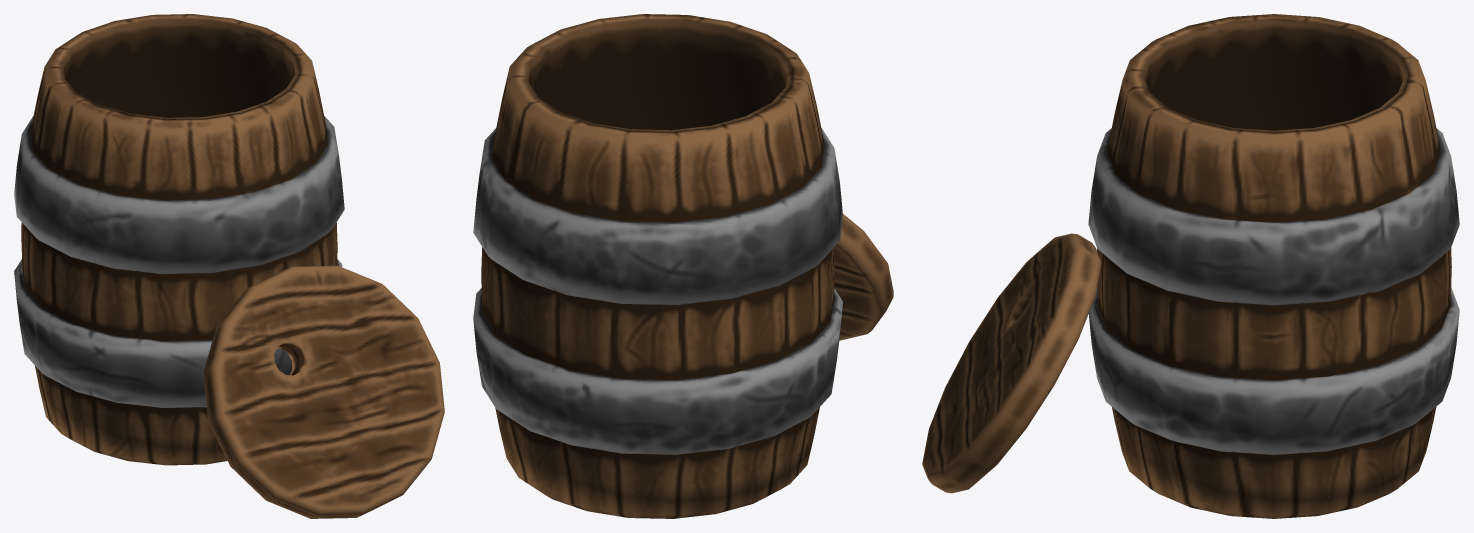
Rendered from Barrel_no_lid.fbx.
The picture shows the model from 3 angles, left to right: view 1: azimuth 30°, elevation 25°; view 2: azimuth 150°, elevation 25°; view 3: azimuth 270°, elevation 25°; orthographic projection. The views are drawn at different scales.
Visible parts, largest first — view 1: Barrel_no_lid; view 2: Barrel_no_lid; view 3: Barrel_no_lid.
Part boxes in pixels (x1,y1,x2,y2): Barrel_no_lid: [14, 14, 444, 518]; Barrel_no_lid: [473, 14, 893, 518]; Barrel_no_lid: [922, 14, 1459, 518].
Bounding box in the file's own units: 1.14 × 1.32 × 1.65.
